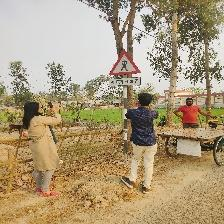Market-in-front: (107, 46, 143, 90)
